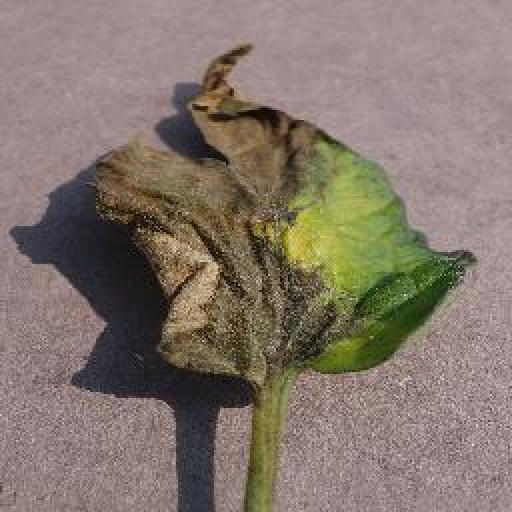Late Blight: (94, 41, 482, 380)
